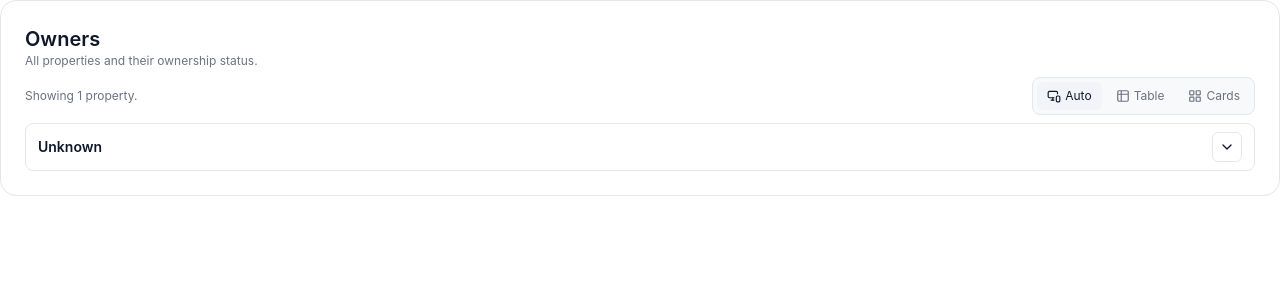
Scenario: OwnersManager › shows owner display_name when owner exists
Click the button "Unknown".
click(70, 146)  # box [25,123,1255,171]
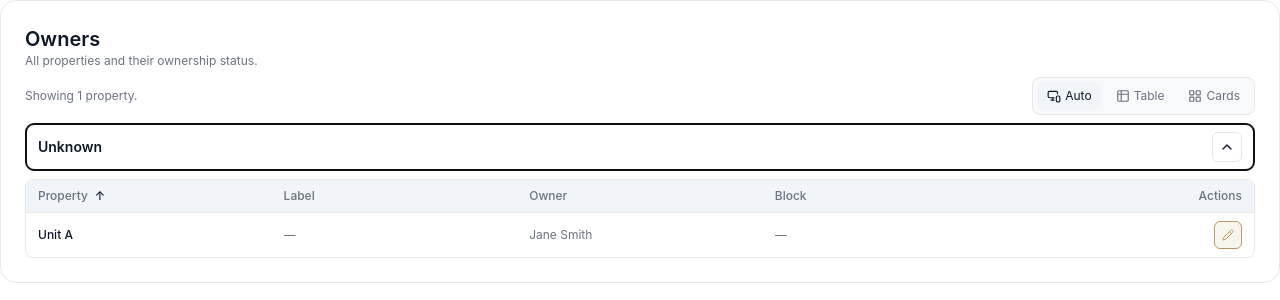
Check: the text "Jane Smith" is shown, box [529,227,592,242]
